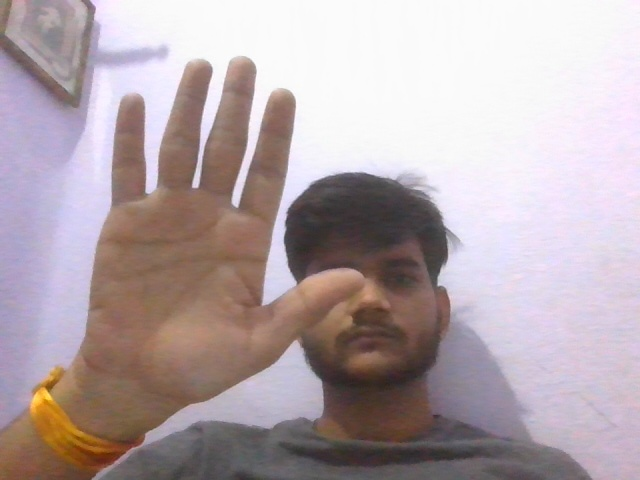hello: (77, 46, 362, 430)
